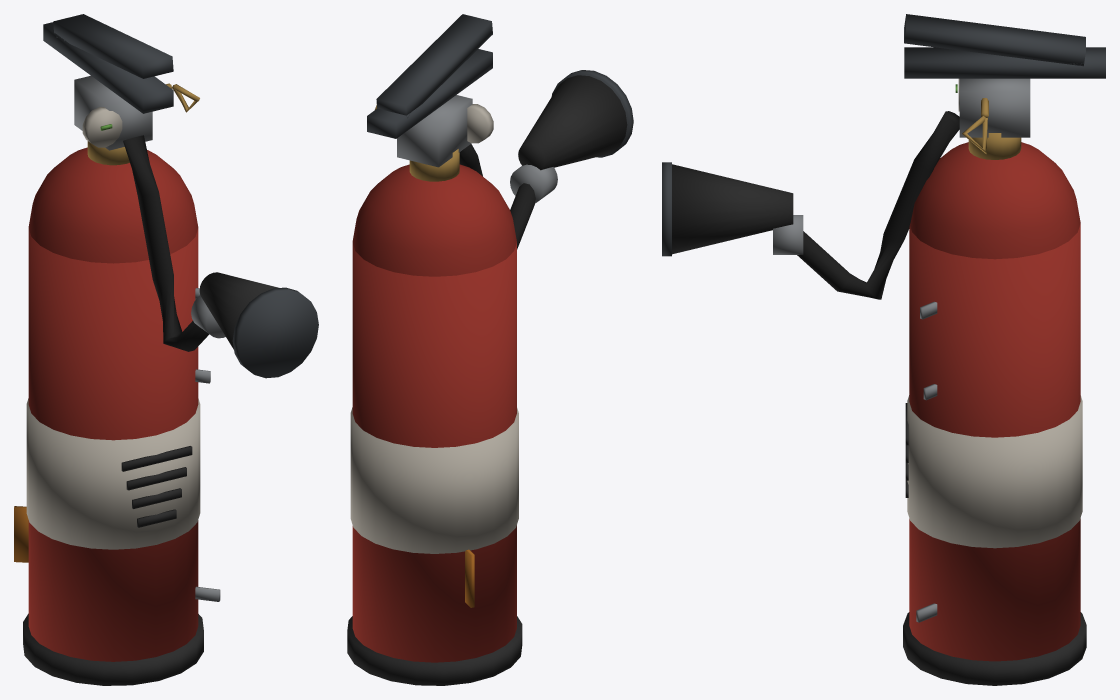
The model's file is fire_extinguisher.fbx.
3 views of the same model, side by side, from view 1: azimuth 30°, elevation 25°; view 2: azimuth 150°, elevation 25°; view 3: azimuth 270°, elevation 25° (orthographic). The views are drawn at different scales.
Parts seen in each view (by area): view 1: FireExtinguisher; view 2: FireExtinguisher; view 3: FireExtinguisher.
Boxes of the visible parts, x1=… form: FireExtinguisher: x1=14, y1=14, x2=318, y2=685; FireExtinguisher: x1=347, y1=14, x2=633, y2=685; FireExtinguisher: x1=662, y1=14, x2=1105, y2=685.
Bounding box in the file's own units: 18.2 × 68.44 × 44.
